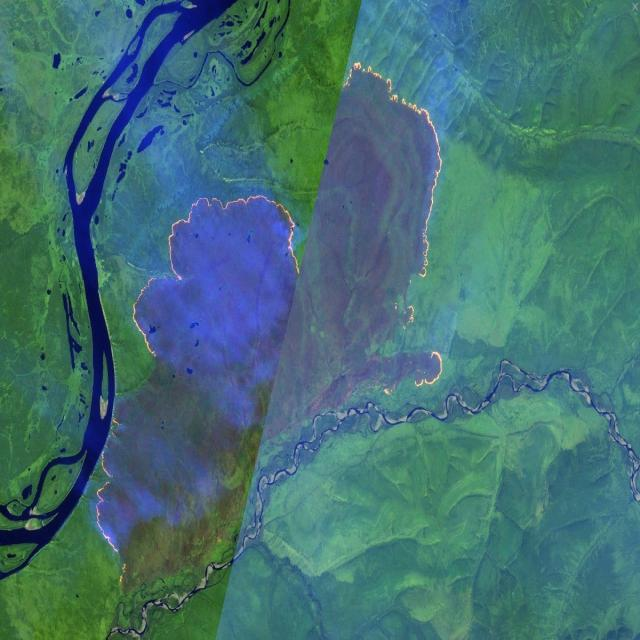fire: (86, 56, 452, 601)
